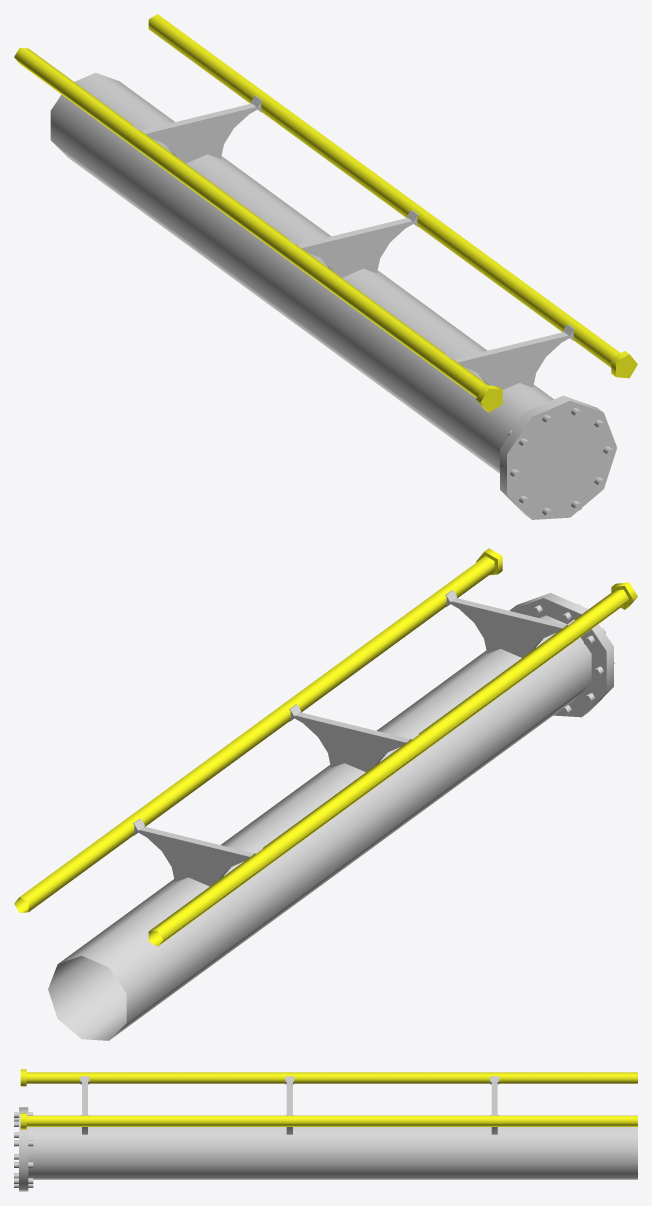
Rendered from Ghoster_Rail1.fbx.
3 views of the same model, one above another, from view 1: azimuth 30°, elevation 25°; view 2: azimuth 150°, elevation 25°; view 3: azimuth 270°, elevation 25° (orthographic). The views are drawn at different scales.
Parts seen in each view (by area): view 1: Rail1_LOD0; view 2: Rail1_LOD0; view 3: Rail1_LOD0.
Part boxes in pixels (x1,y1,x2,y2): Rail1_LOD0: (14,14,637,519); Rail1_LOD0: (14,548,637,1040); Rail1_LOD0: (14,1069,637,1191).
Size of the model in its own units: 0.776 by 0.6968 by 4.06.
